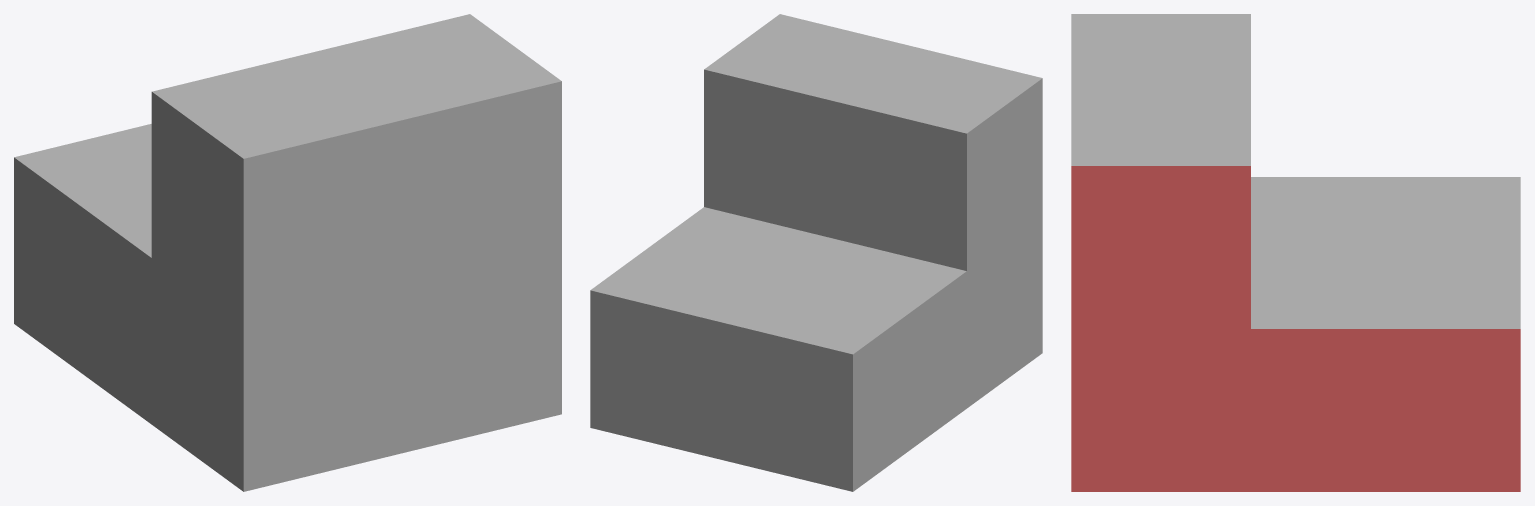
The picture shows the model from 3 angles, left to right: view 1: azimuth 30°, elevation 25°; view 2: azimuth 150°, elevation 25°; view 3: azimuth 270°, elevation 25°; orthographic projection. The views are drawn at different scales.
Parts seen in each view (by area): view 1: 7-2.SLDPRT; view 2: 7-2.SLDPRT; view 3: 7-2.SLDPRT.
Boxes of the visible parts, x1,y1,x2,y2 form: 7-2.SLDPRT: [14, 14, 561, 491]; 7-2.SLDPRT: [590, 14, 1042, 491]; 7-2.SLDPRT: [1071, 14, 1520, 491].
Bounding box in the file's own units: 0.04 × 0.04 × 0.05.
